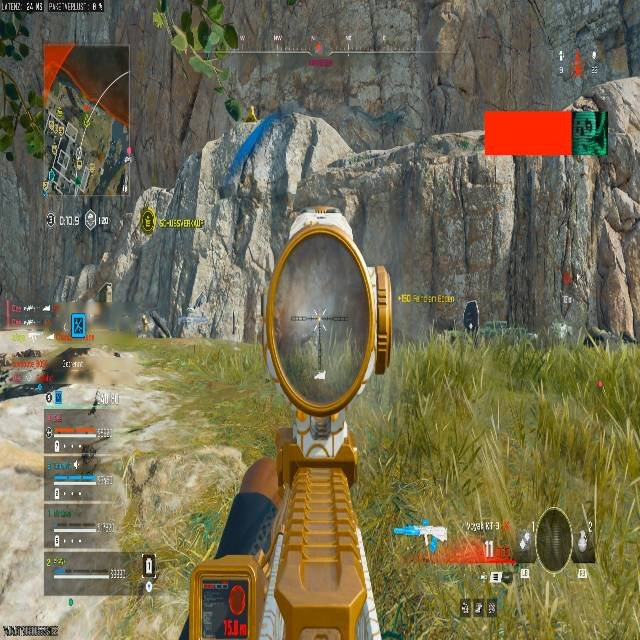player: (463, 300, 478, 333)
